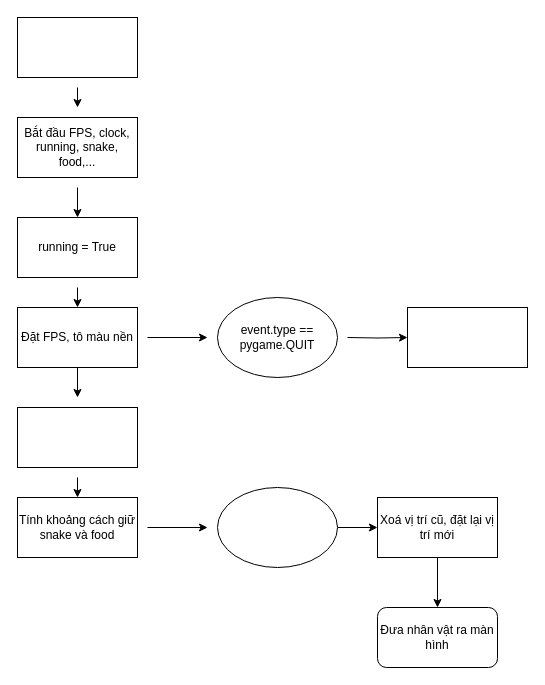
Image size: 545x685. Some labels were removed from this diagram. Here are the shapes that lost their labels. From the top down, the centre of each, then its label:
At (77,47): "Khởi tạo".
At (467,337): "running = False".
At (77,437): "Cập nhật hình ảnh".
At (277,527): "Chạm".
